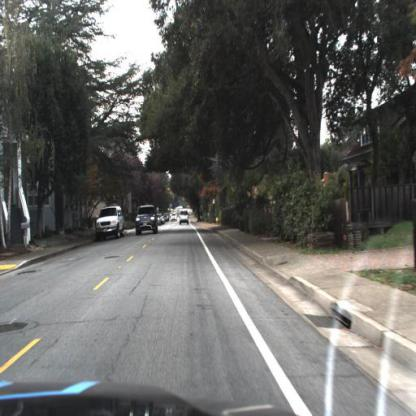car: (95, 205, 126, 238), (134, 201, 161, 238), (179, 210, 193, 228)
